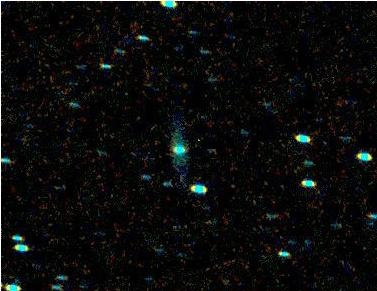star: (50, 59, 80, 89)
